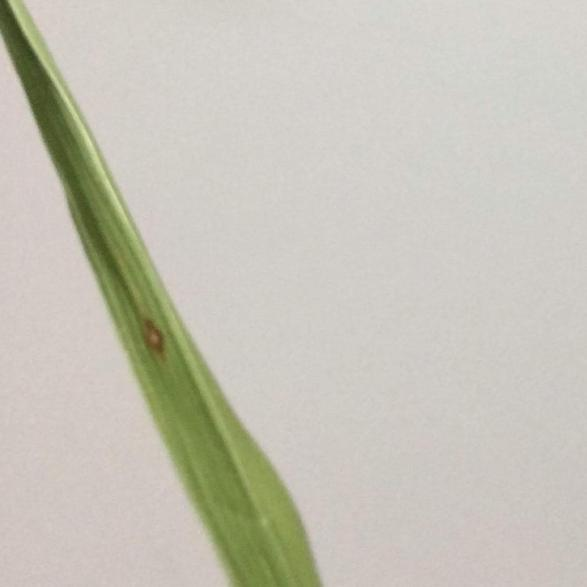Leaf_smut: (132, 289, 170, 361)
